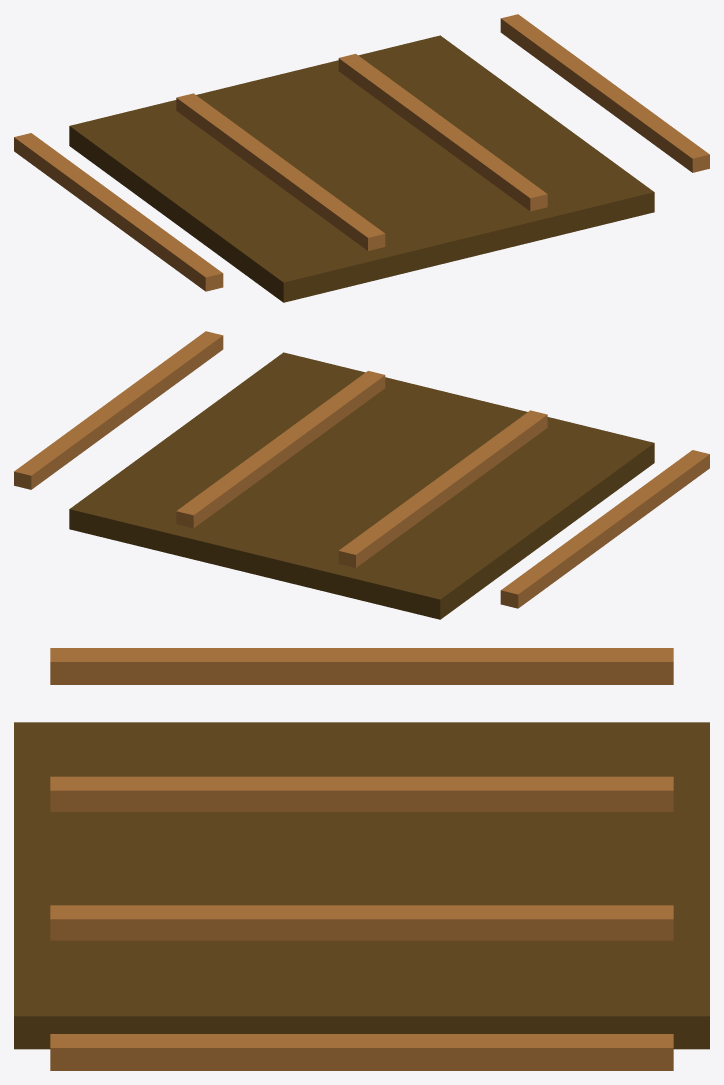
Rendered from grainfield_sown.glb.
The picture shows the model from 3 angles, top to bottom: view 1: azimuth 30°, elevation 25°; view 2: azimuth 150°, elevation 25°; view 3: azimuth 270°, elevation 25°; orthographic projection. The views are drawn at different scales.
Parts seen in each view (by area): view 1: Tilled soil, Furrow.001; view 2: Tilled soil, Furrow.001; view 3: Tilled soil, Furrow.001.
Part boxes in pixels (<box>): Tilled soil: <box>69,35,654,302</box>; Furrow.001: <box>14,14,709,291</box>; Tilled soil: <box>69,352,654,619</box>; Furrow.001: <box>14,331,709,608</box>; Tilled soil: <box>14,722,709,1049</box>; Furrow.001: <box>50,648,673,1070</box>.
Bounding box in the file's own units: 1.3 × 0.0825 × 0.96.
